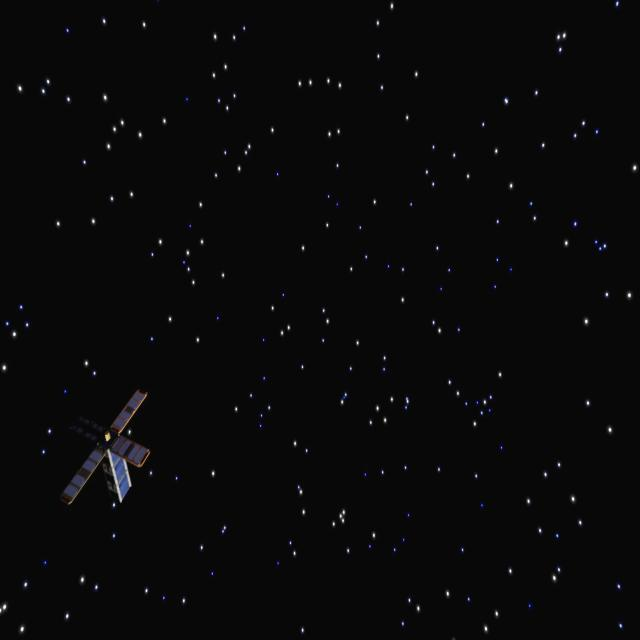satellite: (48, 383, 163, 516)
